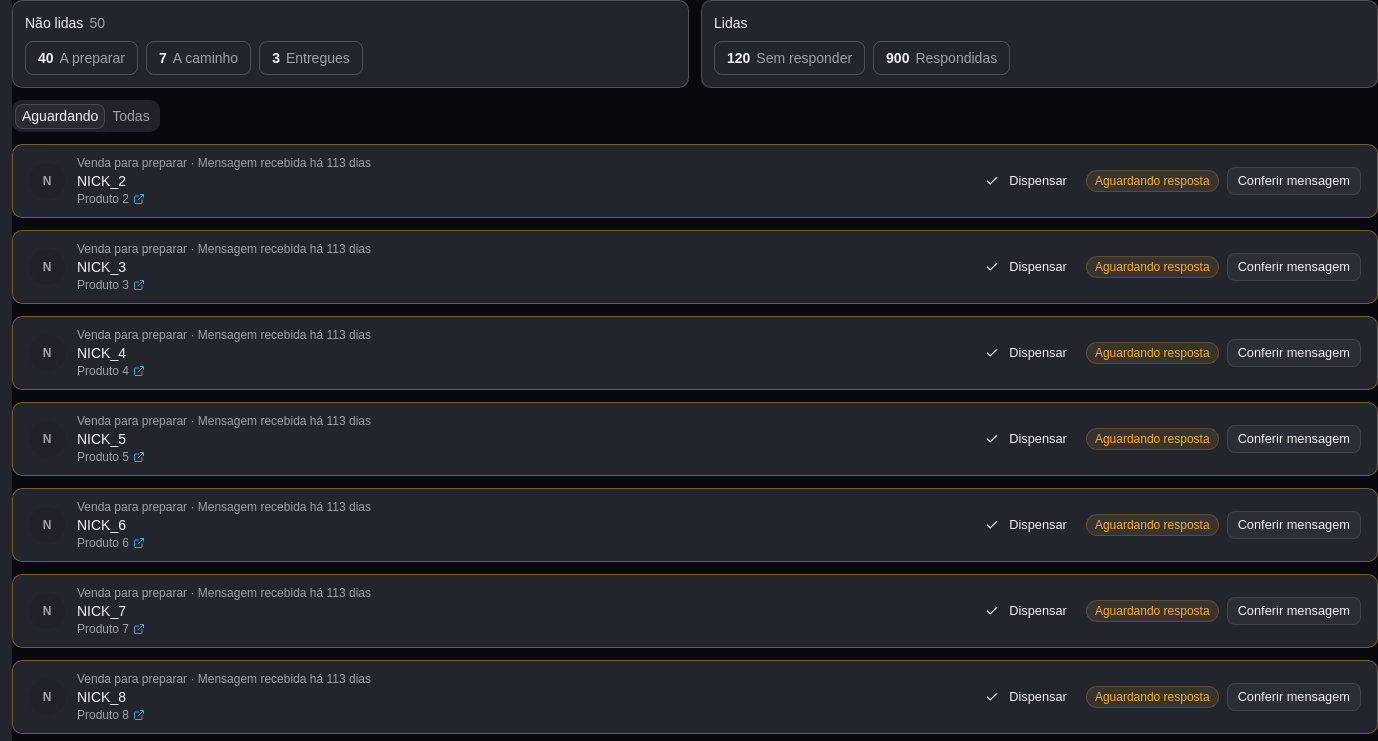
Test case: AbaMensagens › card recolhido mostra a venda, o tempo da mensagem e o botão; o chat só aparece ao expandir
The width and height of the screenshot is (1378, 741).
Expected: the 1st text "Venda para preparar · Mensagem recebida há 113 dias" is shown, [77, 156, 371, 170]
Step 1. Click the button "Conferir mensagem" in the row of "Produto 2" → (1294,181), box [1227, 167, 1361, 195]
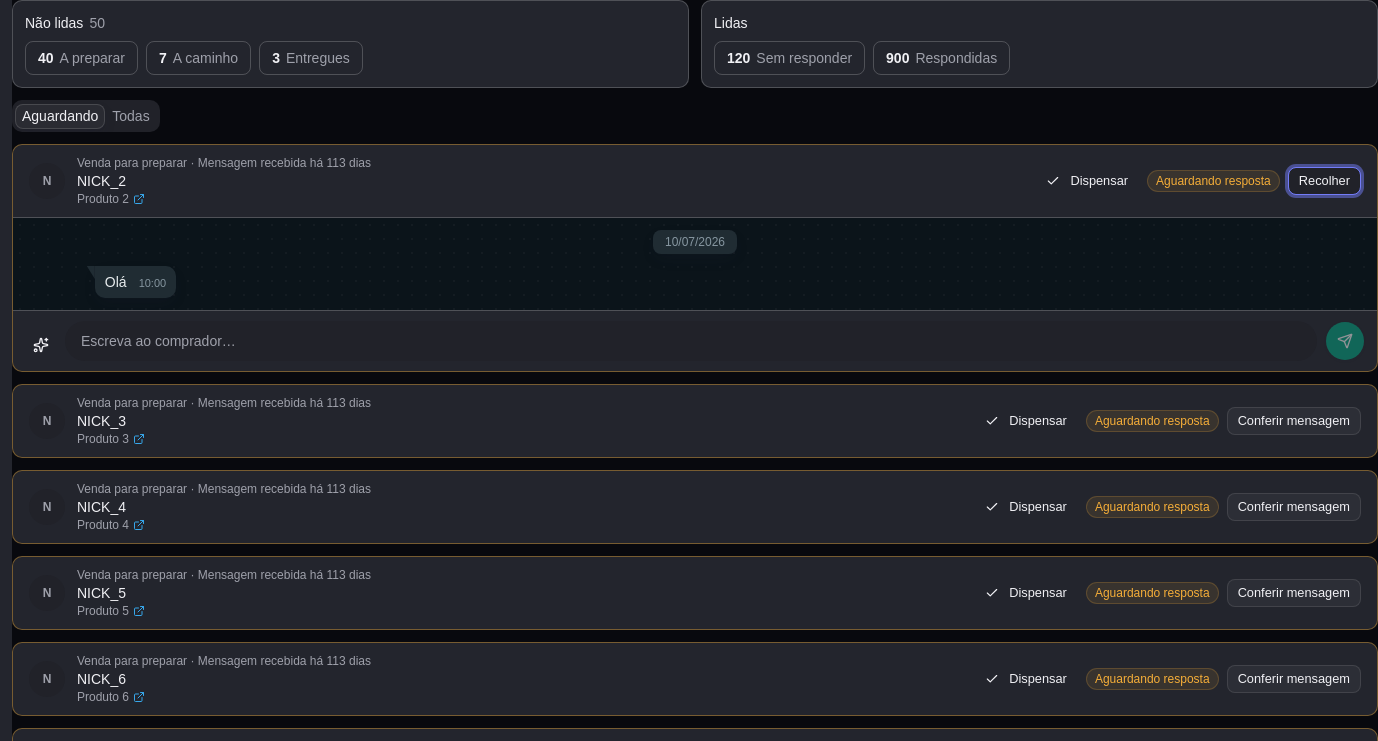
Expected: the element showing "10/07/2026 Olá 10:00" is shown, [13, 218, 1377, 310]
